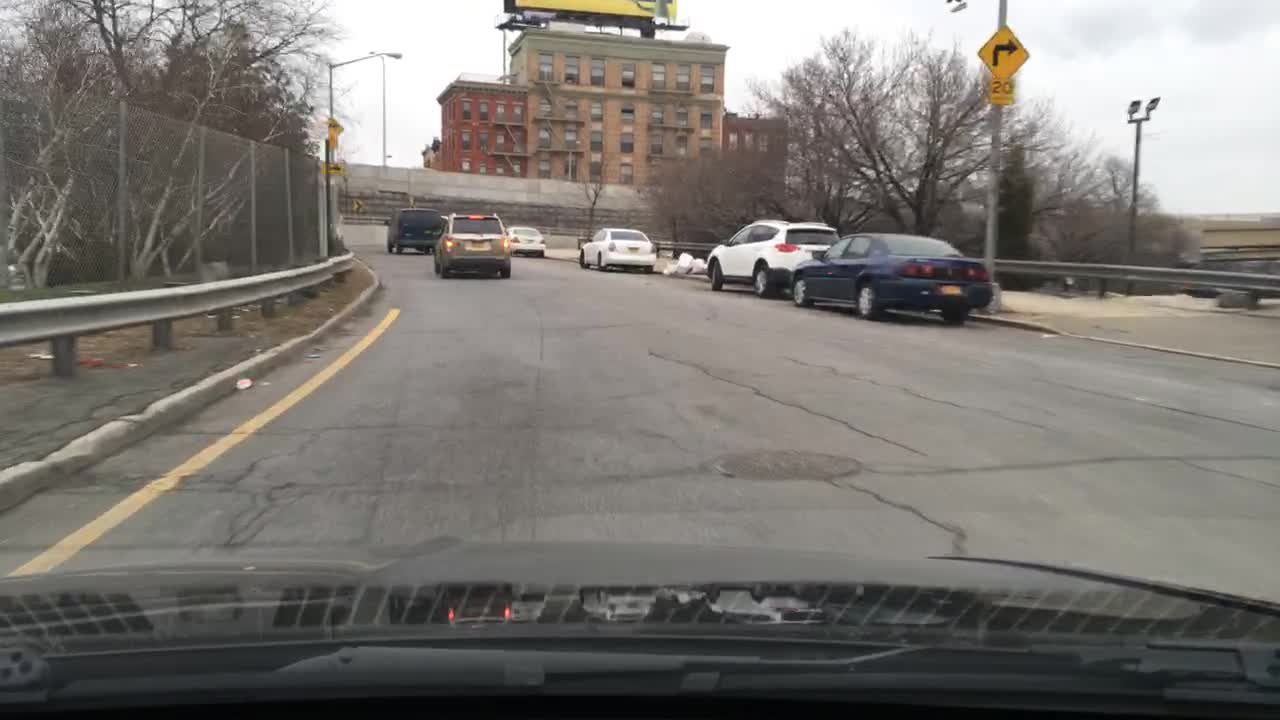car: (792, 233, 993, 323), (706, 220, 839, 296), (435, 212, 510, 279), (578, 227, 656, 272), (385, 207, 445, 254), (506, 227, 546, 258)
traffic sign: (978, 26, 1031, 73), (985, 77, 1016, 106), (326, 117, 341, 147), (319, 163, 343, 177), (350, 198, 363, 212), (410, 197, 416, 207)
